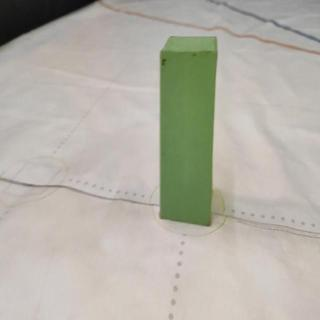greenbox: (161, 35, 217, 228)
